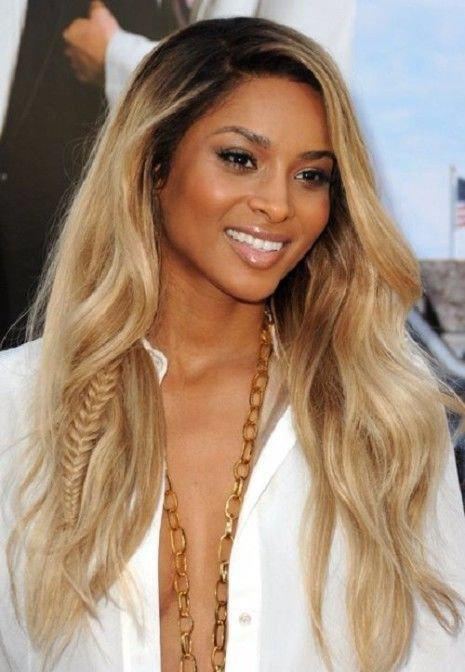Sober: (166, 95, 335, 286)
